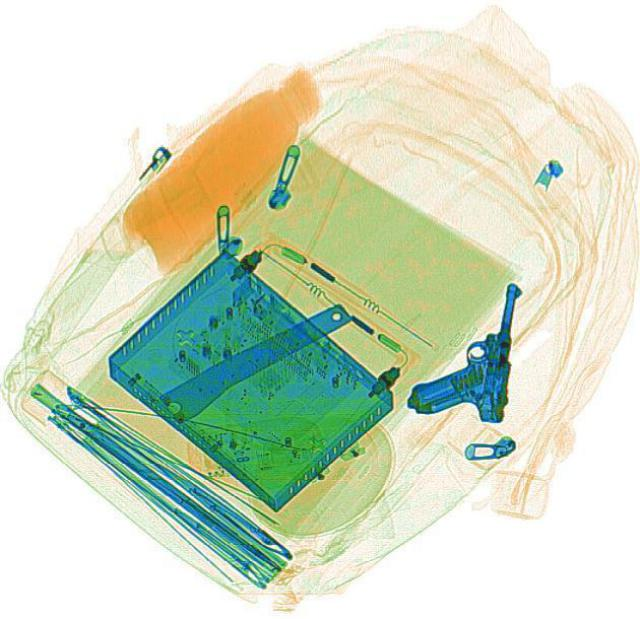Gun: (404, 270, 526, 425)
